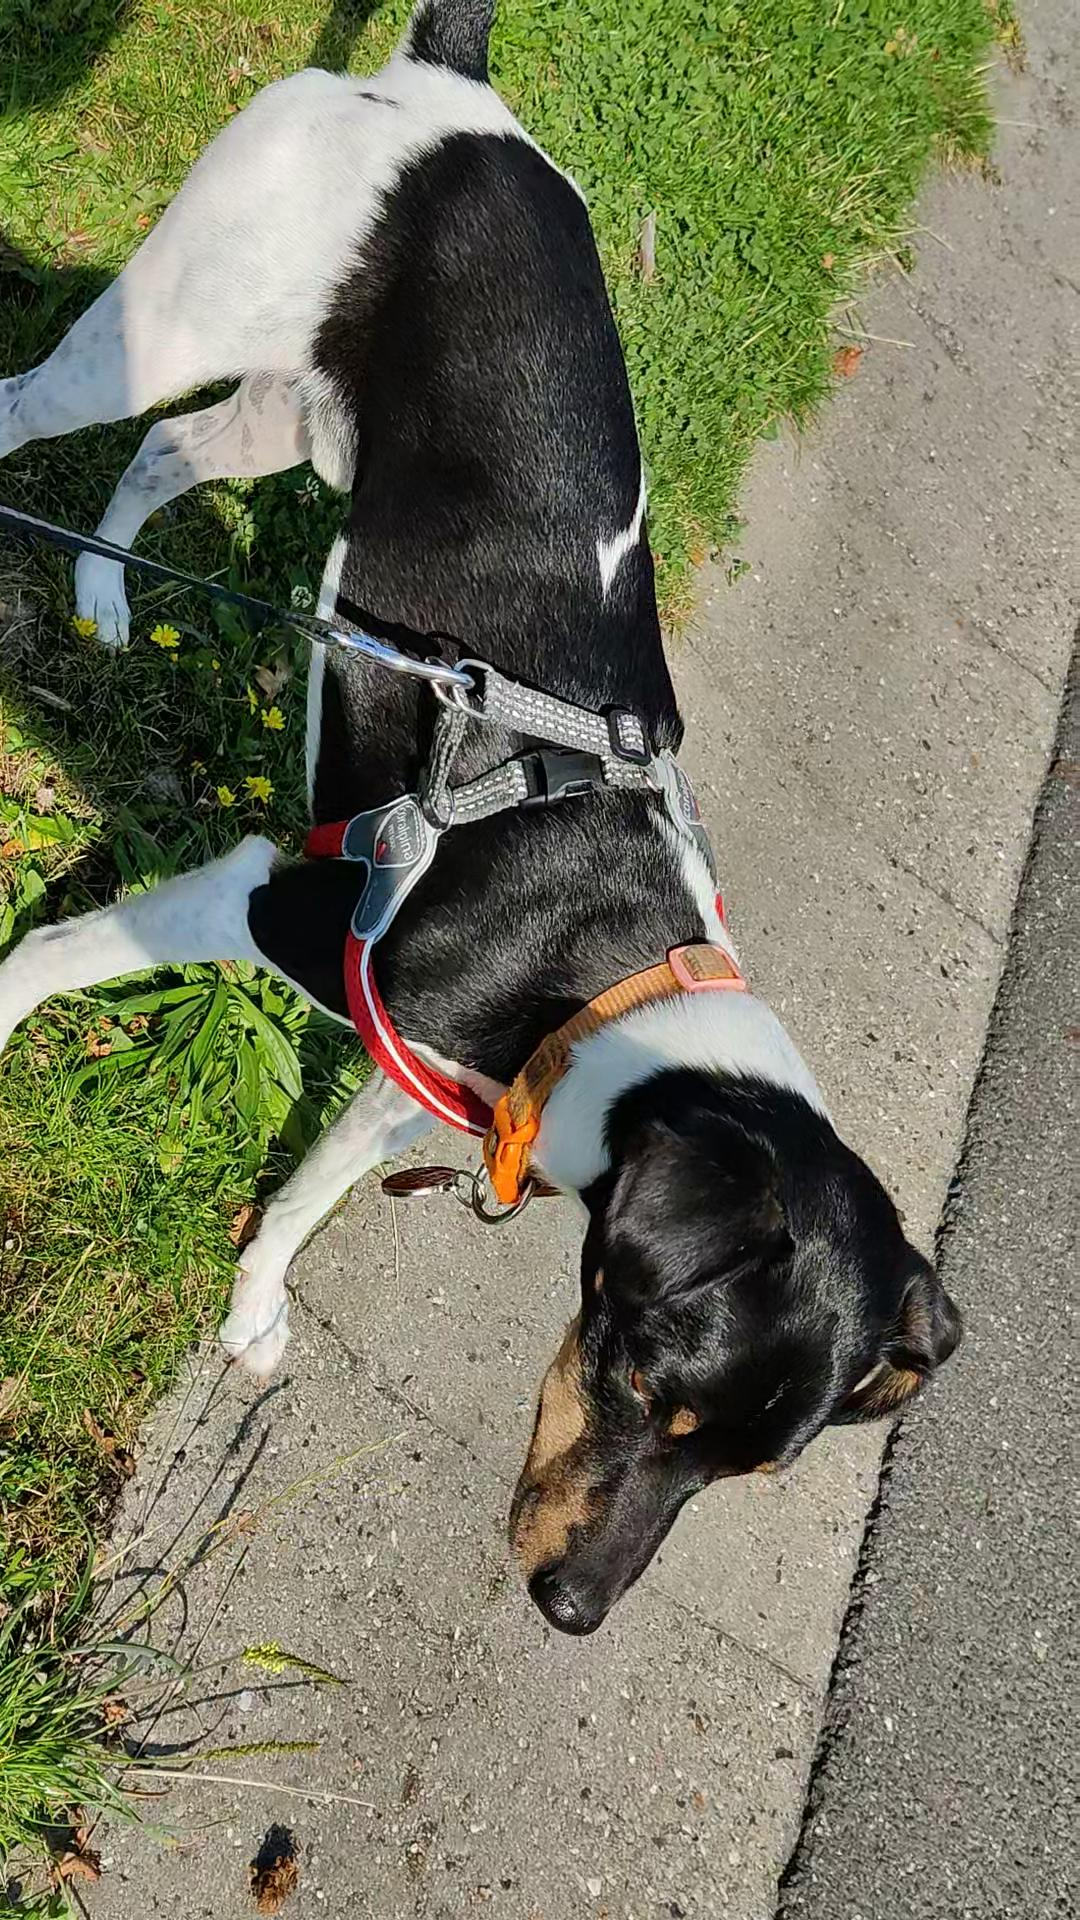Dog: (0, 0, 976, 1638)
